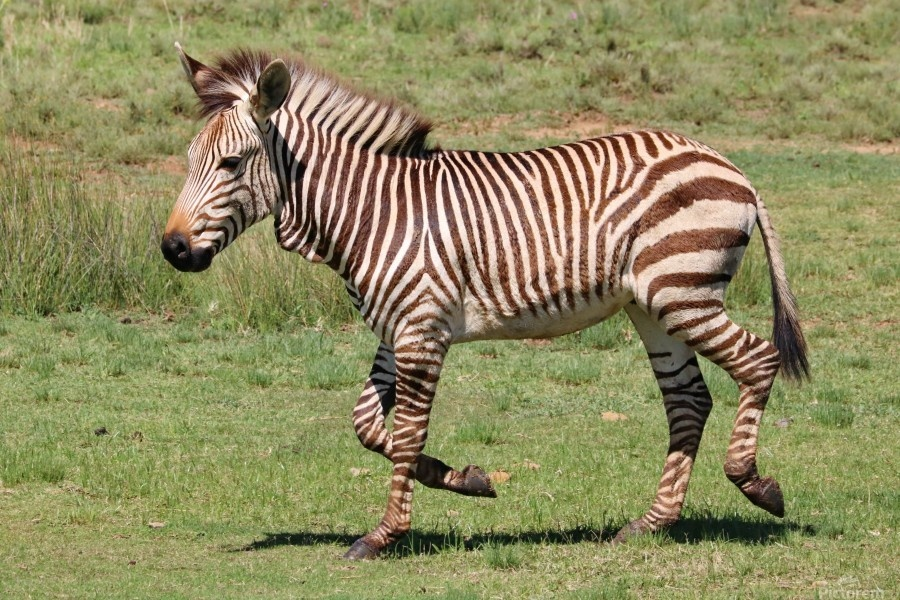zebra: (158, 38, 812, 560)
